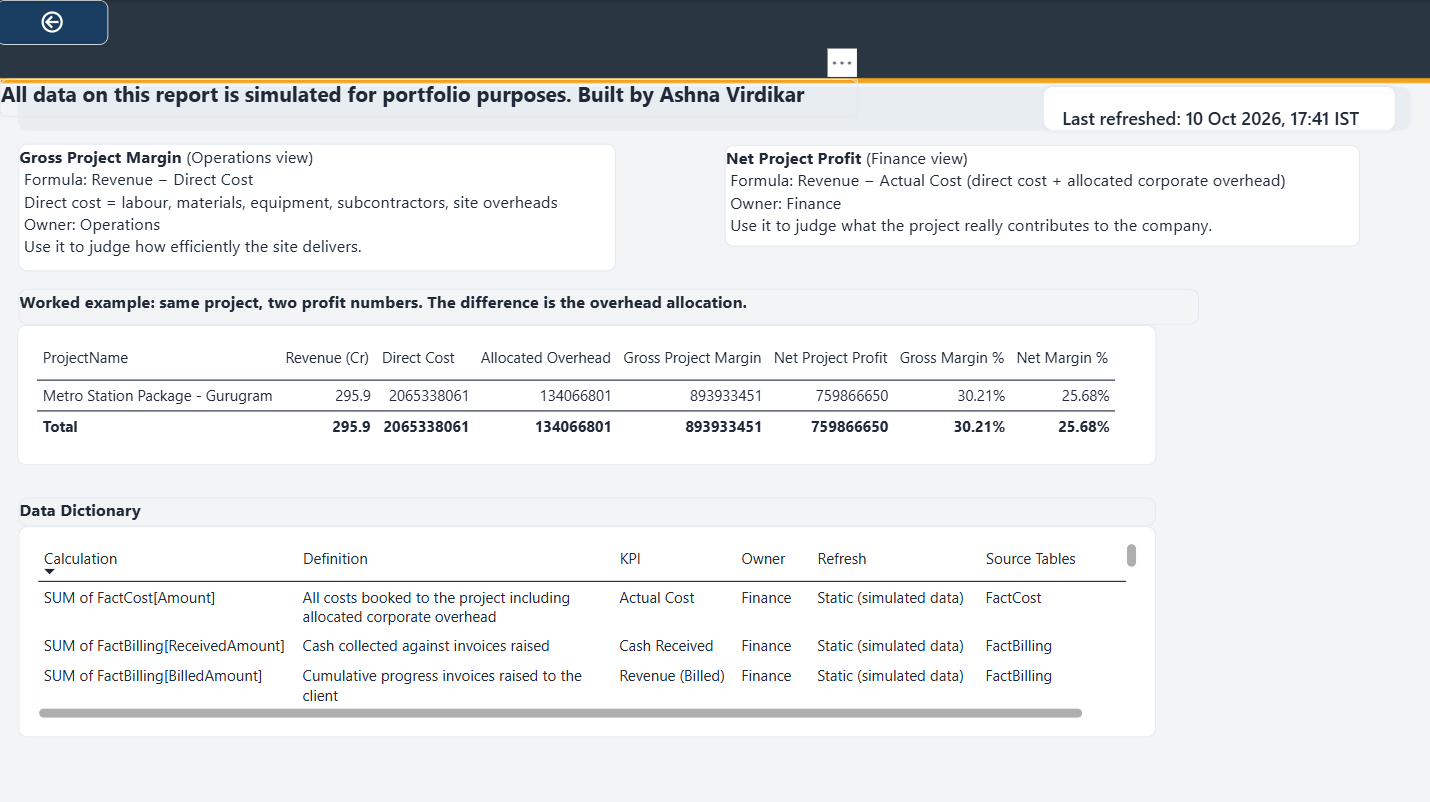

What the dashboard file says about the page in this screenshot:
{"tool":"powerbi","page":{"name":"Definitions & Governance ","canvas":[1920,1080],"ordinal":3},"visuals":[{"type":"textbox","box":[20,128,610,150],"z":0},{"type":"textbox","box":[649.3,128.7,610,150],"z":1000},{"type":"tableEx","fields":{"Values":["DimProject.ProjectName","_Measures.Revenue (Cr)","_Measures.Direct Cost","_Measures.Allocated Overhead","_Measures.Gross Project Margin","_Measures.Net Project Profit","_Measures.Gross Margin %","_Measures.Net Margin %"]},"box":[18.7,345.2,1241,195],"z":2000},{"type":"actionButton","box":[0,0,100,40],"z":3000},{"type":"textbox","box":[19.2,319.2,1240.1,221.5],"z":4000},{"type":"tableEx","fields":{"Values":["data_dictionary.Calculation","data_dictionary.Definition","data_dictionary.KPI","data_dictionary.Owner","data_dictionary.Refresh","data_dictionary.Source Tables"]},"box":[18.7,632.5,1725.9,194.1],"z":5000},{"type":"textbox","box":[20.5,606.4,1063.1,25.7],"z":6000},{"type":"textbox","box":[0,1021.7,957.5,58.7],"z":7000},{"type":"cardVisual","fields":{"Data":["_Measures.Last Refresh Label"]},"box":[1531.6,1005.2,388.9,75.2],"z":8000}]}

Visuals, with their boxes on the page's 1920x1080 design canvas (x1, y1, x2, y2). These are canvas units, not pixel positions in the 1430x802 screenshot, which may show the page scaled, cropped or inside an application window:
textbox: bbox=[20, 128, 630, 278]
textbox: bbox=[649, 129, 1259, 279]
tableEx - DimProject.ProjectName x _Measures.Revenue (Cr): bbox=[19, 345, 1260, 540]
actionButton: bbox=[0, 0, 100, 40]
textbox: bbox=[19, 319, 1259, 541]
tableEx - data_dictionary.Calculation x data_dictionary.Definition: bbox=[19, 632, 1745, 827]
textbox: bbox=[20, 606, 1084, 632]
textbox: bbox=[0, 1022, 958, 1080]
cardVisual - _Measures.Last Refresh Label: bbox=[1532, 1005, 1920, 1080]
